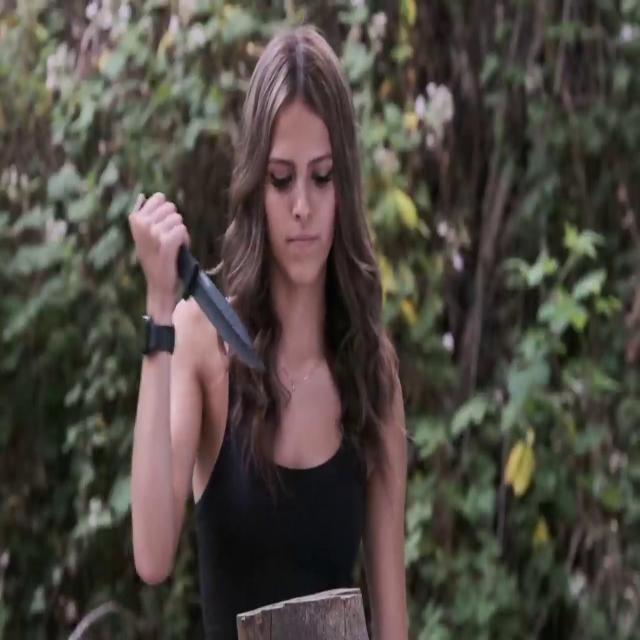Knife: (135, 192, 263, 375)
